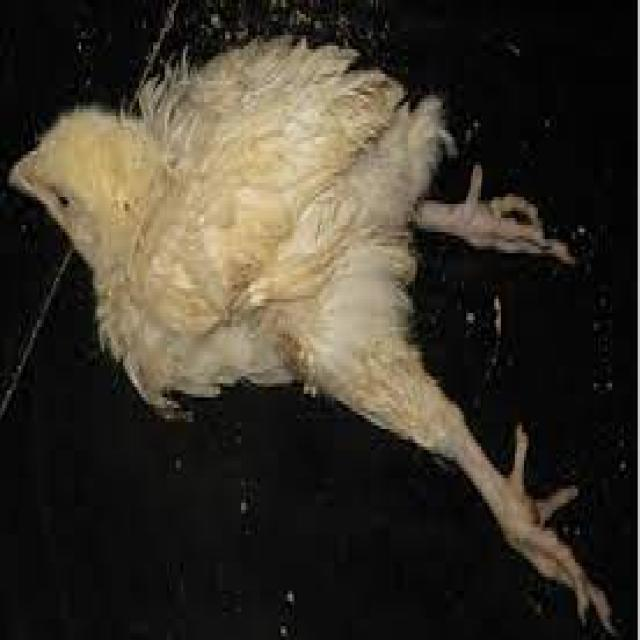AbNormal: (9, 52, 609, 614)
